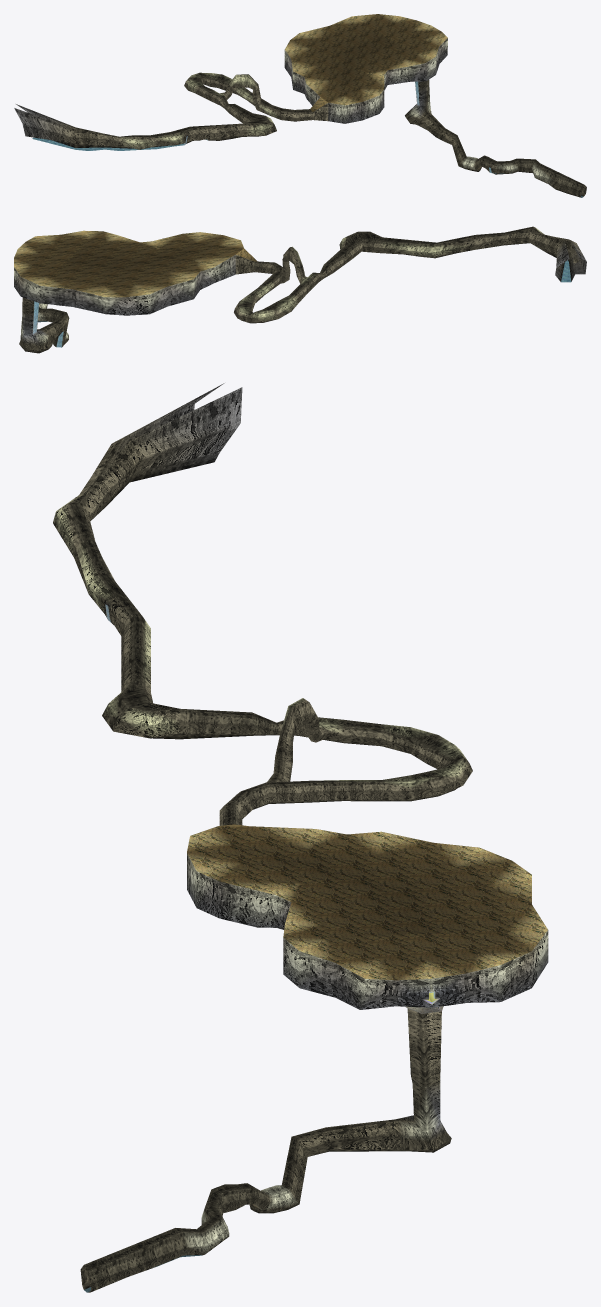
Rendered from terrain.glb.
The picture shows the model from 3 angles, top to bottom: view 1: azimuth 30°, elevation 25°; view 2: azimuth 150°, elevation 25°; view 3: azimuth 270°, elevation 25°; orthographic projection. The views are drawn at different scales.
Parts seen in each view (by area): view 1: terrain; view 2: terrain; view 3: terrain.
Boxes of the visible parts, left/top/right/bottom form: terrain: left=14, top=14, right=586, bottom=197; terrain: left=14, top=226, right=586, bottom=353; terrain: left=53, top=383, right=548, bottom=1292.
Bounding box in the file's own units: 762 × 262 × 303.
Materials: 13 (13 with a texture image).
